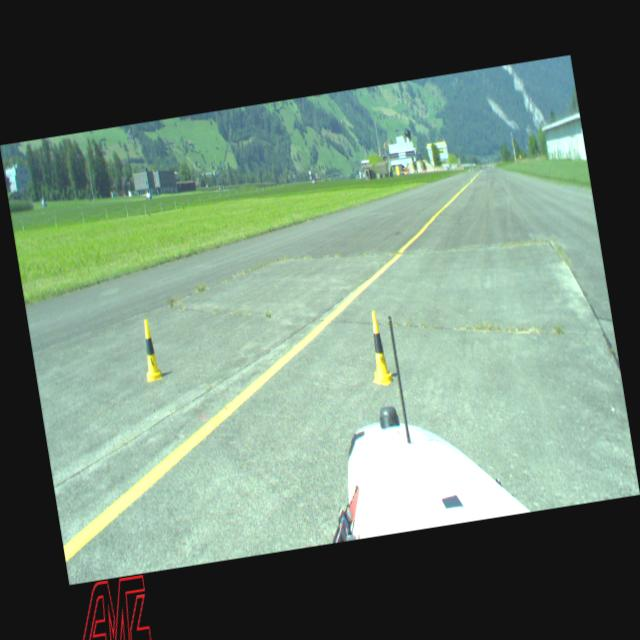yellow_cone: (361, 310, 395, 388), (138, 318, 164, 382)
